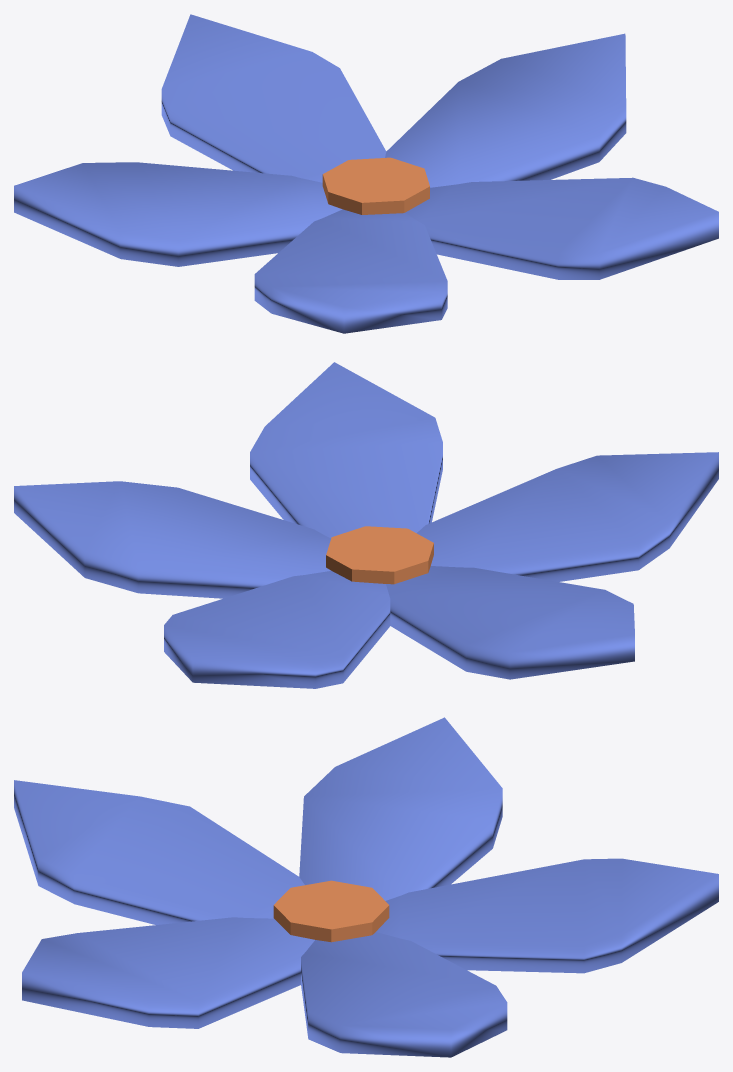
The model's file is Flower_Blue_5.fbx.
3 renders of one model, top to bottom at view 1: azimuth 30°, elevation 25°; view 2: azimuth 150°, elevation 25°; view 3: azimuth 270°, elevation 25°, orthographic. The views are drawn at different scales.
Parts seen in each view (by area): view 1: Cube.076, Cylinder.602; view 2: Cube.076, Cylinder.602; view 3: Cube.076, Cylinder.602.
Part boxes in pixels (box(x1,y1,x2,y2)): Cube.076: box(14, 14, 718, 333); Cylinder.602: box(322, 157, 429, 214); Cube.076: box(14, 362, 718, 688); Cylinder.602: box(326, 526, 433, 584); Cube.076: box(14, 717, 718, 1057); Cylinder.602: box(273, 880, 389, 942).
Bounding box in the file's own units: 71.56 × 7.88 × 68.25.
